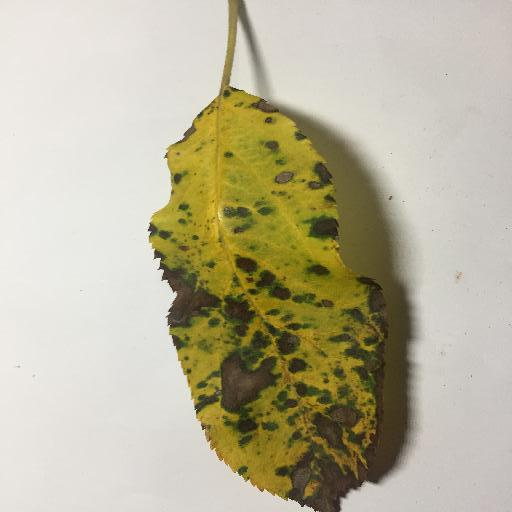Brown_Spot: (95, 193, 432, 512)
